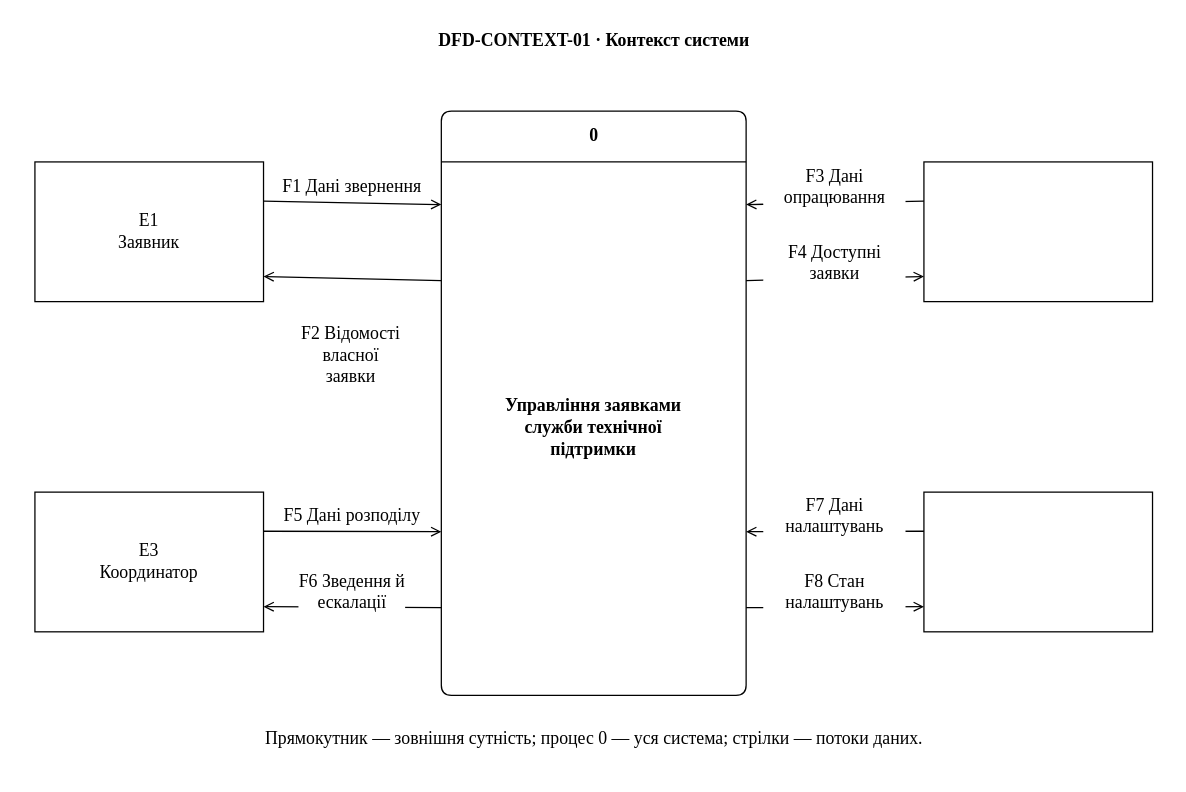
Image size: 1186x792. Some labels were removed from this diagram. Each missing label, with the centre of its shape:
E2 Спеціаліст: the point at 1038,231
E4 Адміністратор: the point at 1038,561
